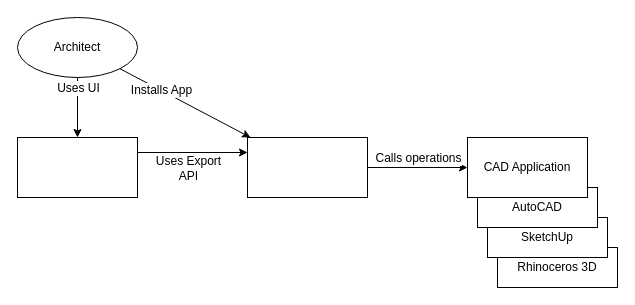
This 635x305 diagram has some shape labels left out. Here are the shapes that lost their labels. From the top down, the box of each, then its label:
(16, 136, 138, 198): Web Page
(246, 136, 368, 198): Remote CAD App
